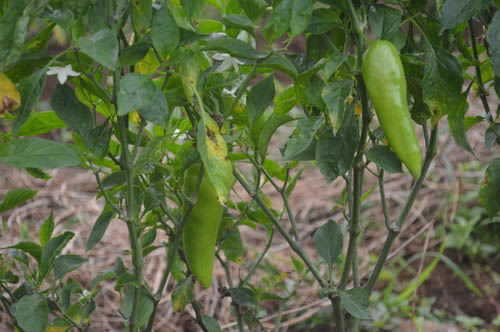ChiliPepper: (364, 39, 420, 174), (185, 163, 220, 287)
